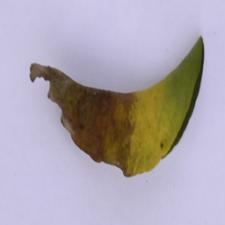Black: (20, 58, 159, 188)
